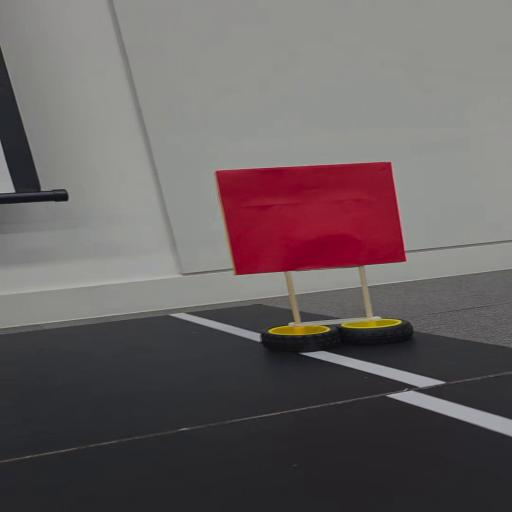Sign_A: (216, 159, 422, 356)
